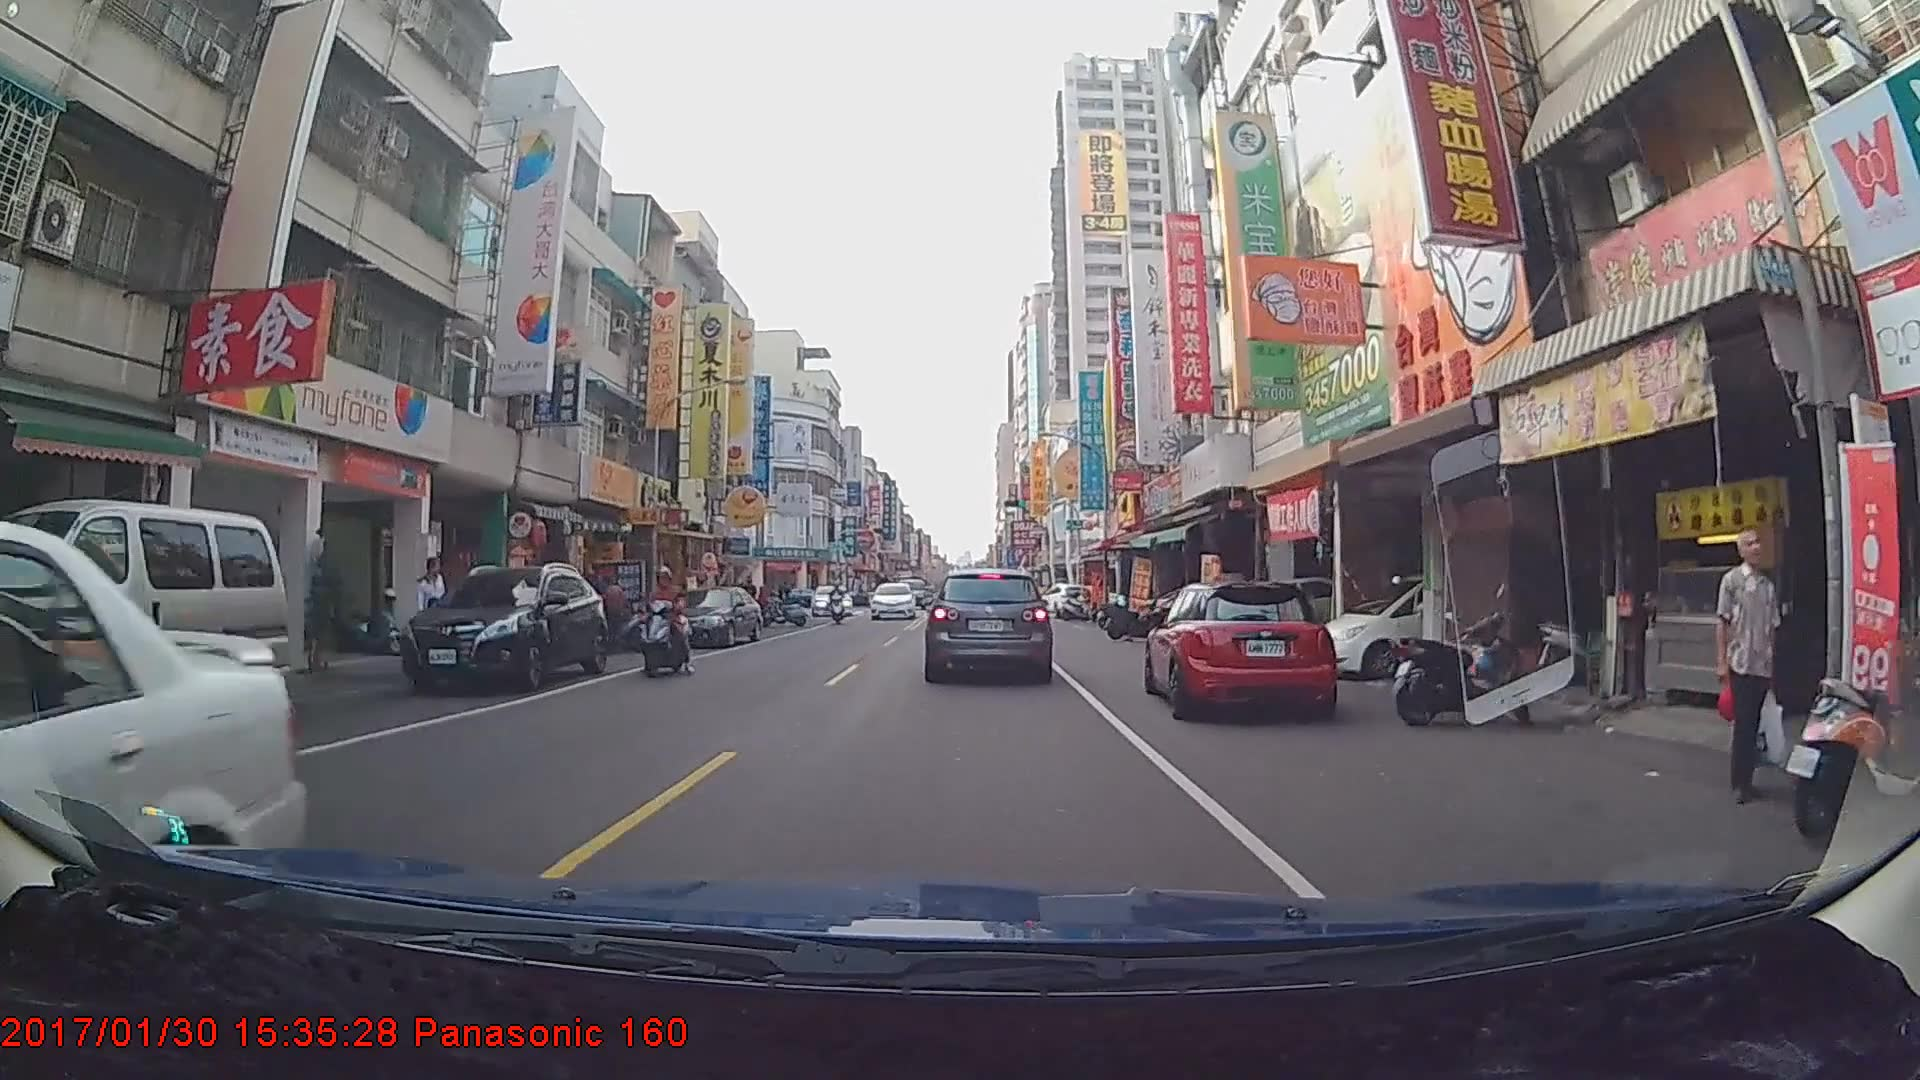pedestrian: (1717, 527, 1782, 810), (411, 557, 449, 676)
rider: (638, 569, 693, 681), (826, 578, 853, 628)
vehicle: (0, 535, 295, 1057), (1145, 576, 1339, 720), (398, 563, 607, 694), (925, 565, 1051, 680), (653, 585, 762, 649), (1035, 581, 1089, 618), (867, 579, 916, 619), (810, 586, 851, 617)
